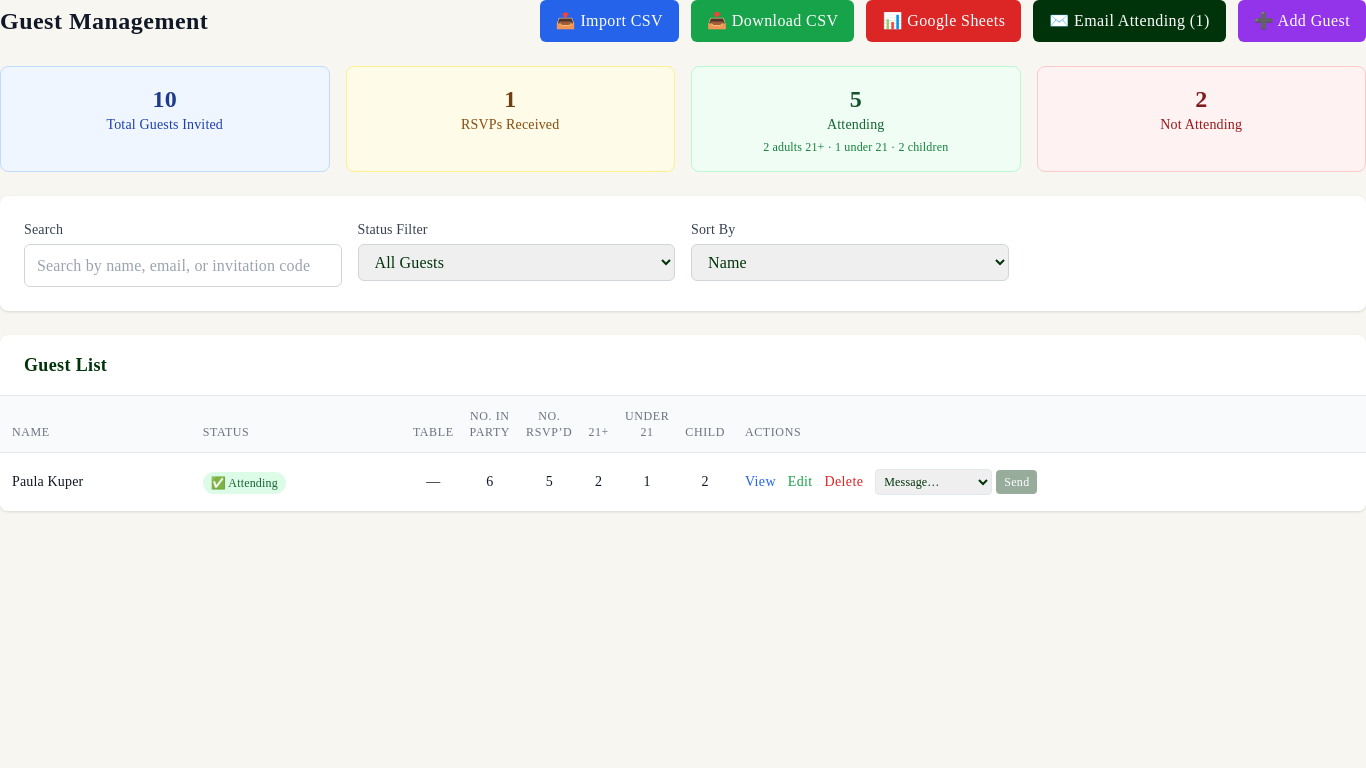
it: the Edit Guest popup › counts the under-21s into that sum
The image size is (1366, 768).
Check: the text "Paula Kuper" is shown, box x1=12 y1=474 x2=83 y2=489
Click the button "Edit".
click(800, 482)  # box x1=788 y1=472 x2=813 y2=492
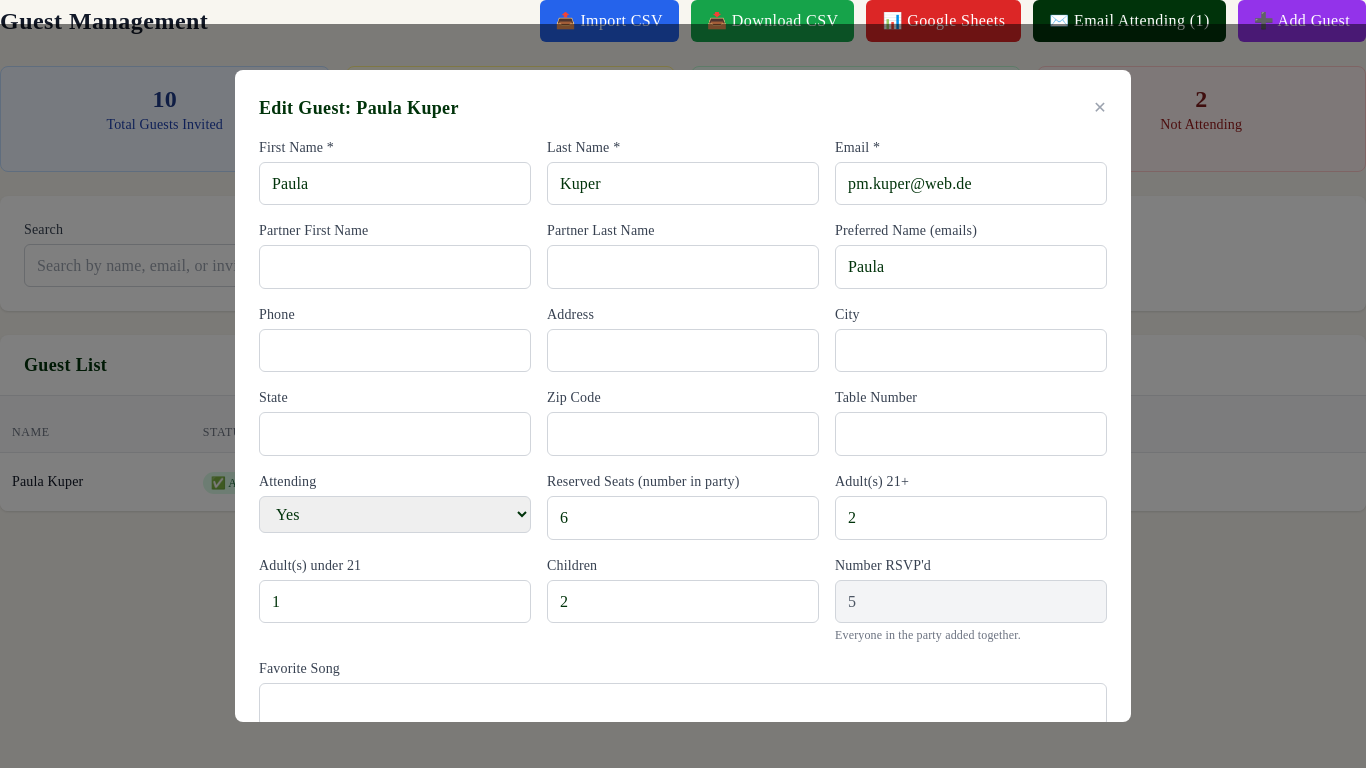
Check: the heading "Edit Guest: Paula Kuper" is shown, box x1=259 y1=94 x2=459 y2=122
Replace the text in the number field labelled "Adult(s) under 21" with "4" at (395,601), box x1=259 y1=580 x2=531 y2=623
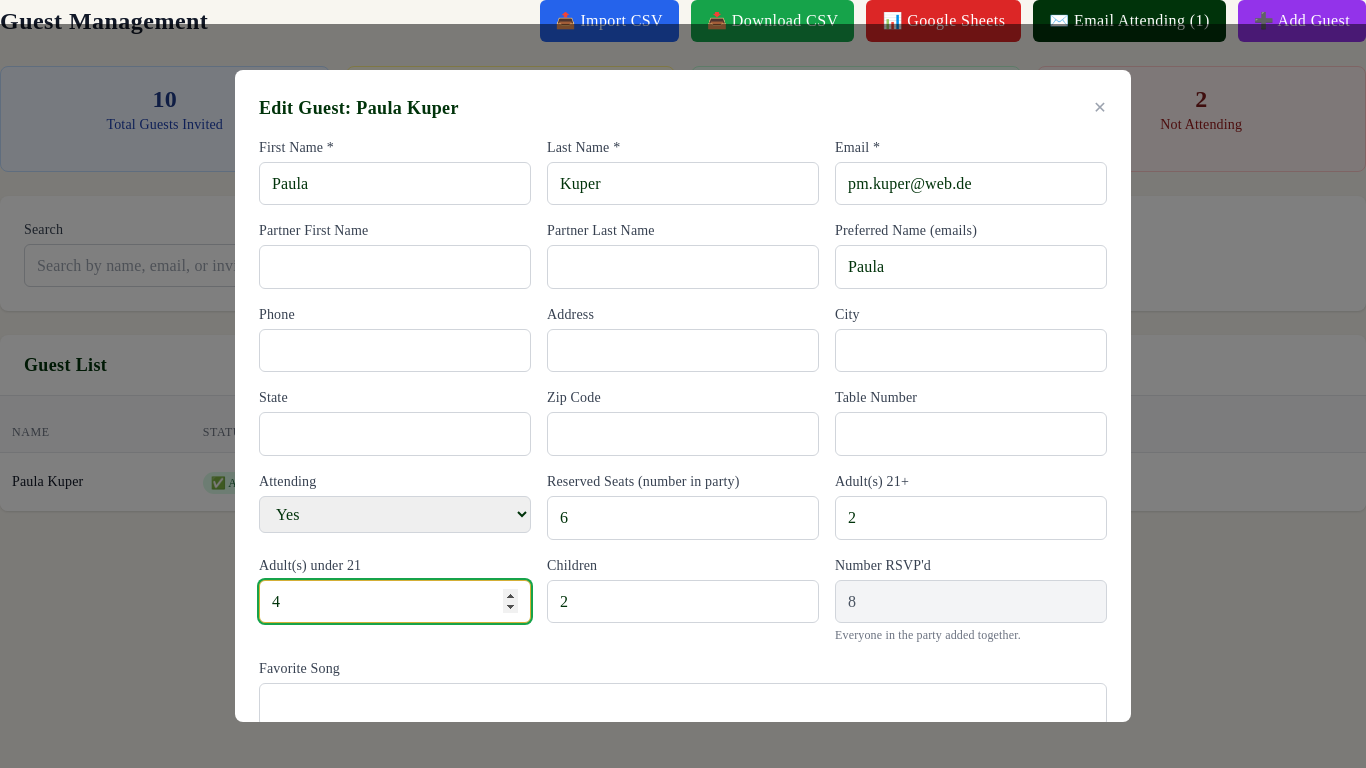
Check: the number field labelled "Number RSVP'd" holds "8", box x1=835 y1=580 x2=1107 y2=623
